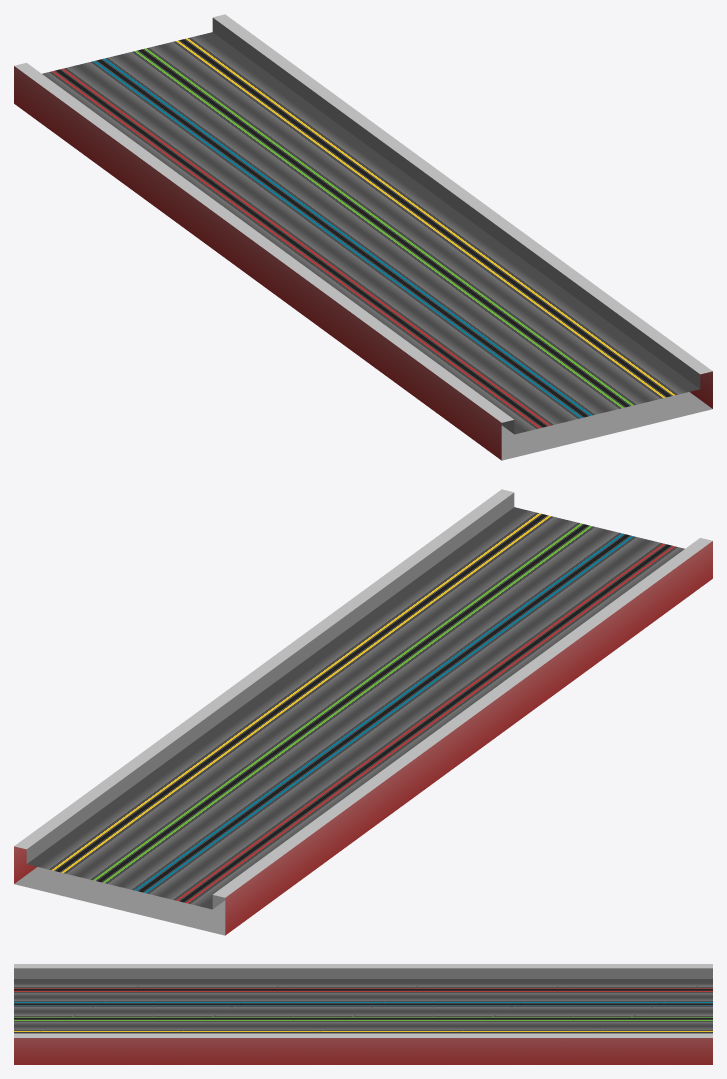
File: track-section.fbx
The picture shows the model from 3 angles, top to bottom: view 1: azimuth 30°, elevation 25°; view 2: azimuth 150°, elevation 25°; view 3: azimuth 270°, elevation 25°; orthographic projection. The views are drawn at different scales.
Parts seen in each view (by area): view 1: TrackSegment; view 2: TrackSegment; view 3: TrackSegment.
Boxes of the visible parts, x1,y1,x2,y2 form: TrackSegment: (14, 14, 712, 460); TrackSegment: (14, 489, 712, 935); TrackSegment: (14, 964, 712, 1064).
Size of the model in its own units: 200 by 8.56 by 50.
